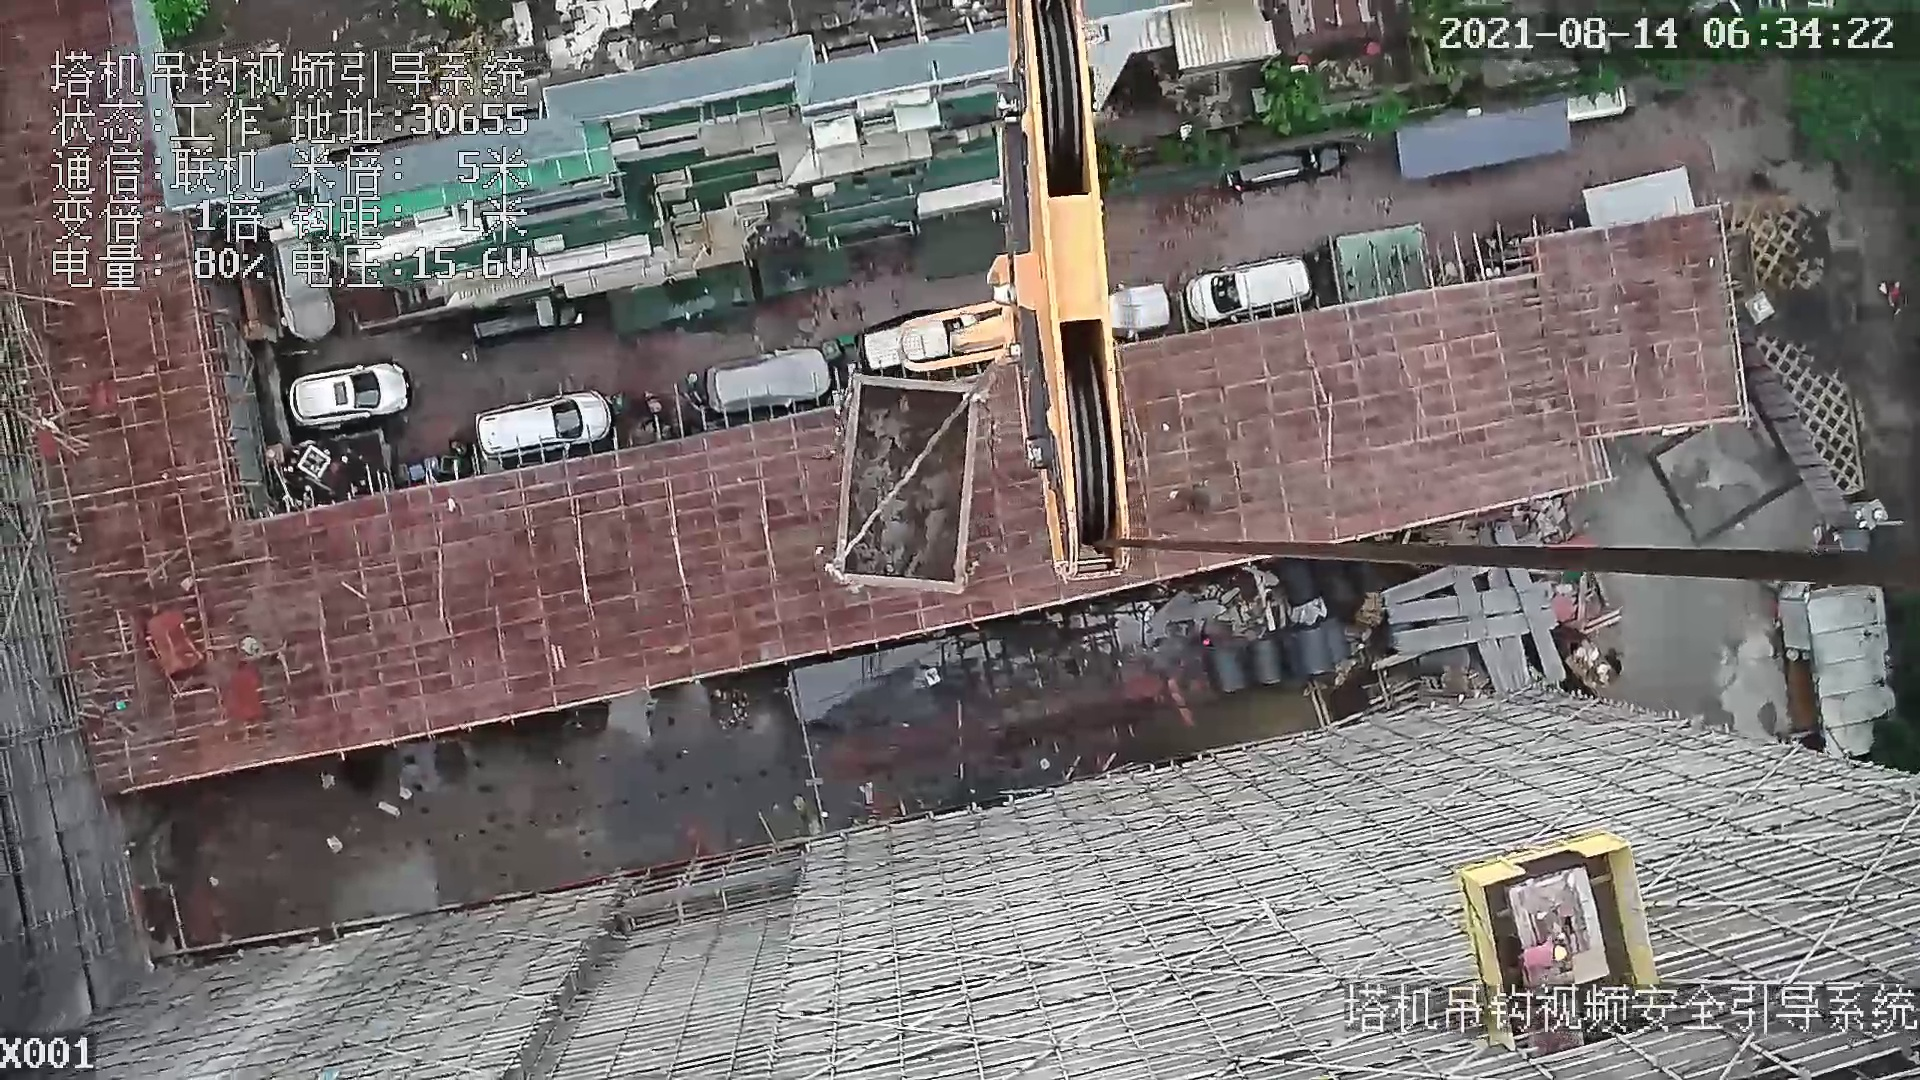helmet: (1554, 947, 1568, 964)
hook: (897, 1, 1138, 585)
hopper: (823, 367, 991, 618)
person: (1509, 935, 1568, 969)
